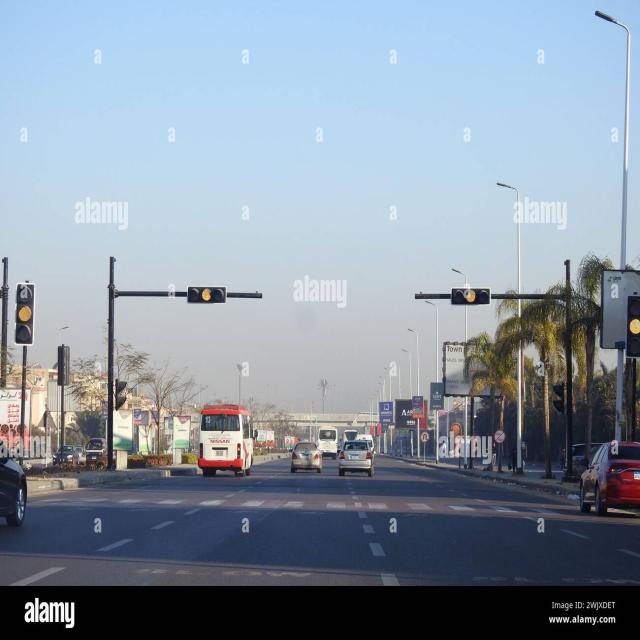Bus: (197, 404, 254, 476)
Car: (578, 439, 639, 516), (0, 456, 27, 527), (337, 438, 375, 476), (290, 441, 322, 474)
Traffic-light: (14, 282, 35, 345), (626, 294, 640, 358), (450, 287, 490, 305), (187, 286, 226, 304), (114, 378, 127, 410)
